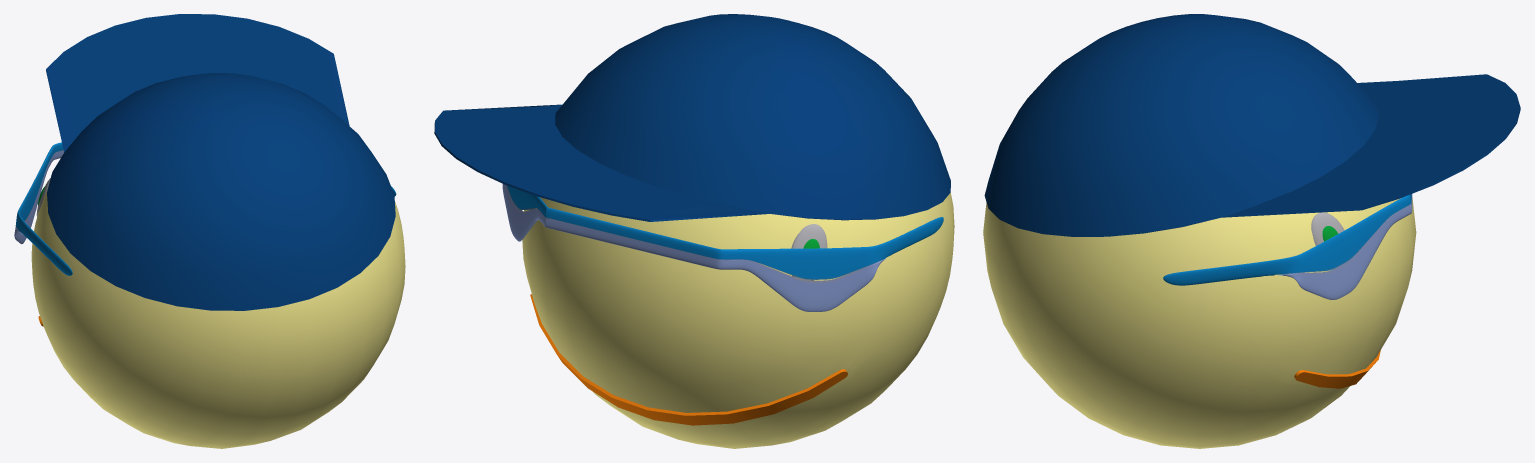
The model's file is CoolerBall.fbx.
3 views of the same model, side by side, from view 1: azimuth 30°, elevation 25°; view 2: azimuth 150°, elevation 25°; view 3: azimuth 270°, elevation 25° (orthographic). The views are drawn at different scales.
Visible parts, largest first — view 1: Cap, Head, Glasses; view 2: Cap, Head, Glasses, Eye; view 3: Cap, Head, Glasses, Eye.
Part boxes in pixels (x1,y1,x2,y2): Cap: [46, 14, 395, 310]; Head: [31, 192, 405, 448]; Glasses: [14, 142, 396, 275]; Cap: [434, 14, 950, 221]; Head: [522, 192, 954, 448]; Glasses: [502, 184, 943, 311]; Eye: [528, 208, 827, 280]; Cap: [984, 14, 1520, 236]; Head: [983, 197, 1416, 448]; Glasses: [1163, 194, 1412, 299]; Eye: [1311, 212, 1344, 245].
Bounding box in the file's own units: 1.07 × 1.24 × 1.
